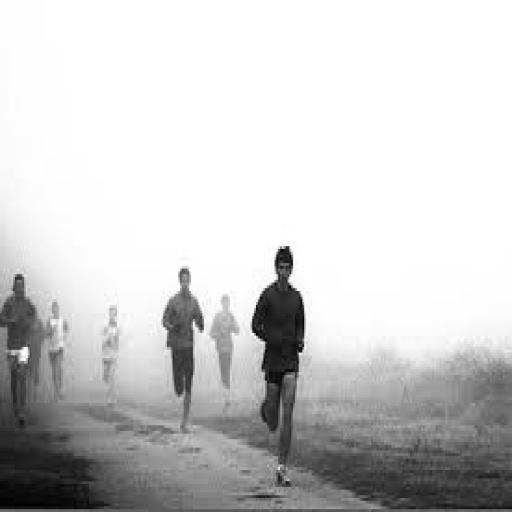running: (248, 240, 310, 490), (160, 263, 208, 436), (0, 268, 43, 431), (208, 288, 243, 420), (95, 297, 126, 414), (41, 294, 72, 406)
